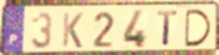2: (92, 11, 116, 49)
3: (30, 11, 53, 51)
4: (121, 9, 149, 50)
D: (184, 9, 213, 49)
K: (61, 11, 85, 50)
T: (156, 10, 179, 48)
